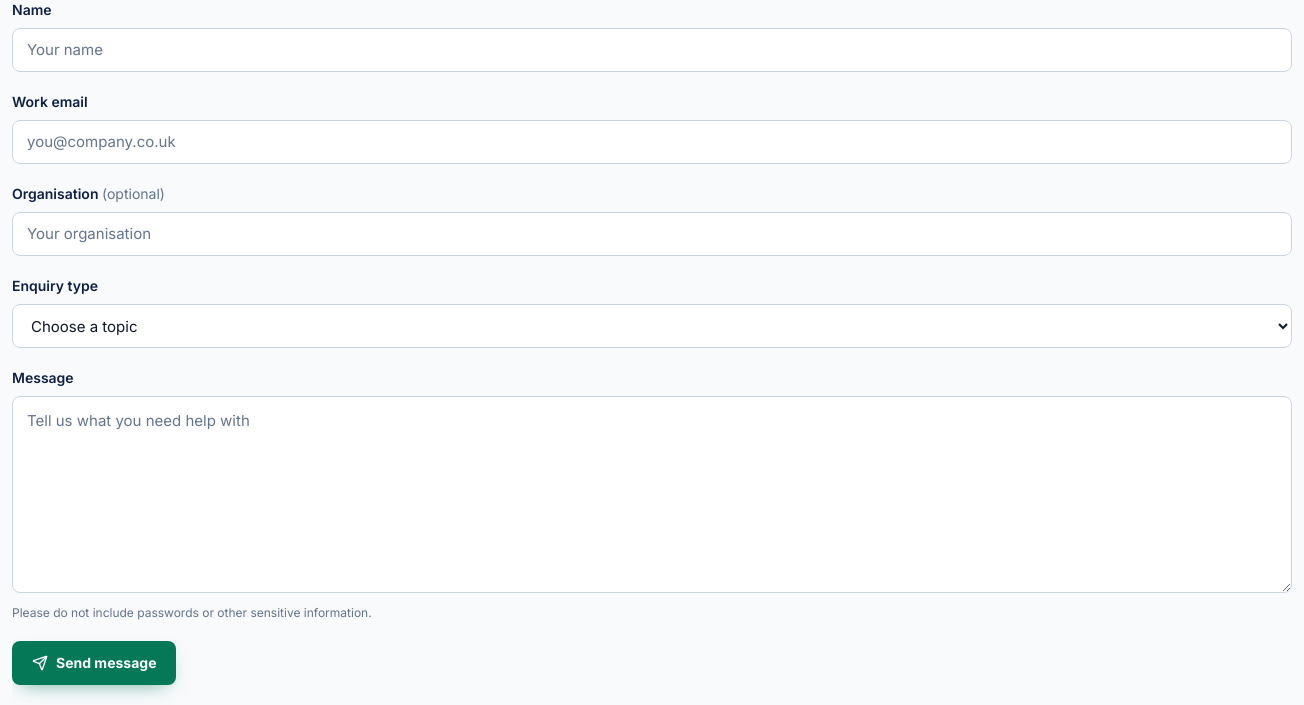
Test case: ContactForm › shows field errors and retains visitor input after validation fails
The width and height of the screenshot is (1304, 705).
In the field labelled "Name": coordinates (652, 50) 12,28 -> 1292,72, type "Aisha Rahman"
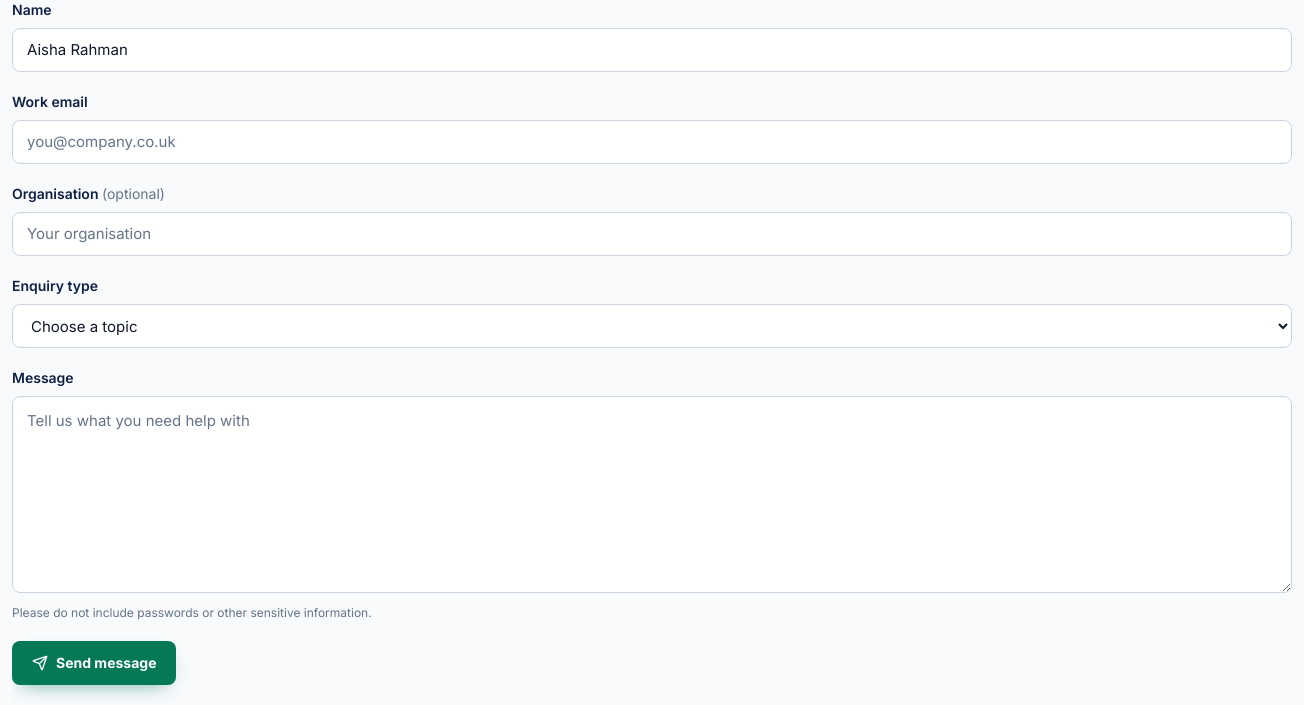
In the field labelled "Work email": coordinates (652, 142) 12,120 -> 1292,164, type "not-an-email"
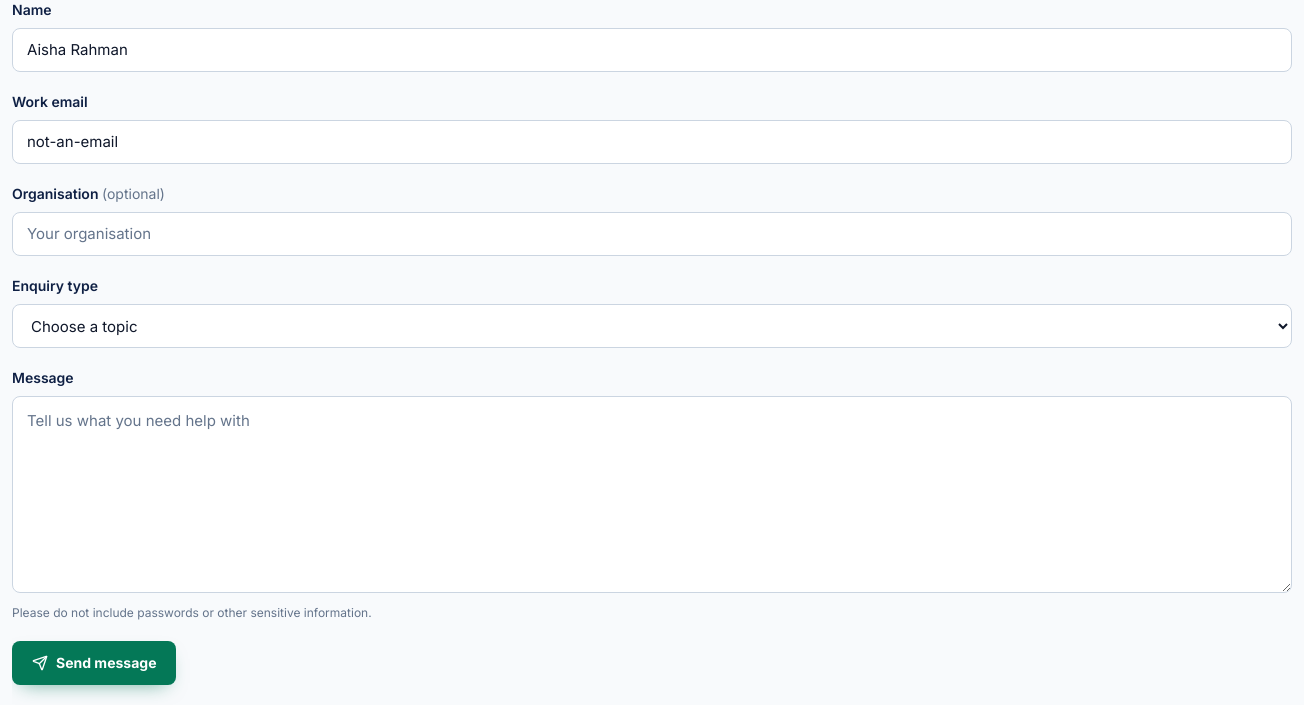
In the text box labelled "Message": coordinates (652, 494) 12,396 -> 1292,593, type "Please help us understand our latest readiness results."
(page scrolled)
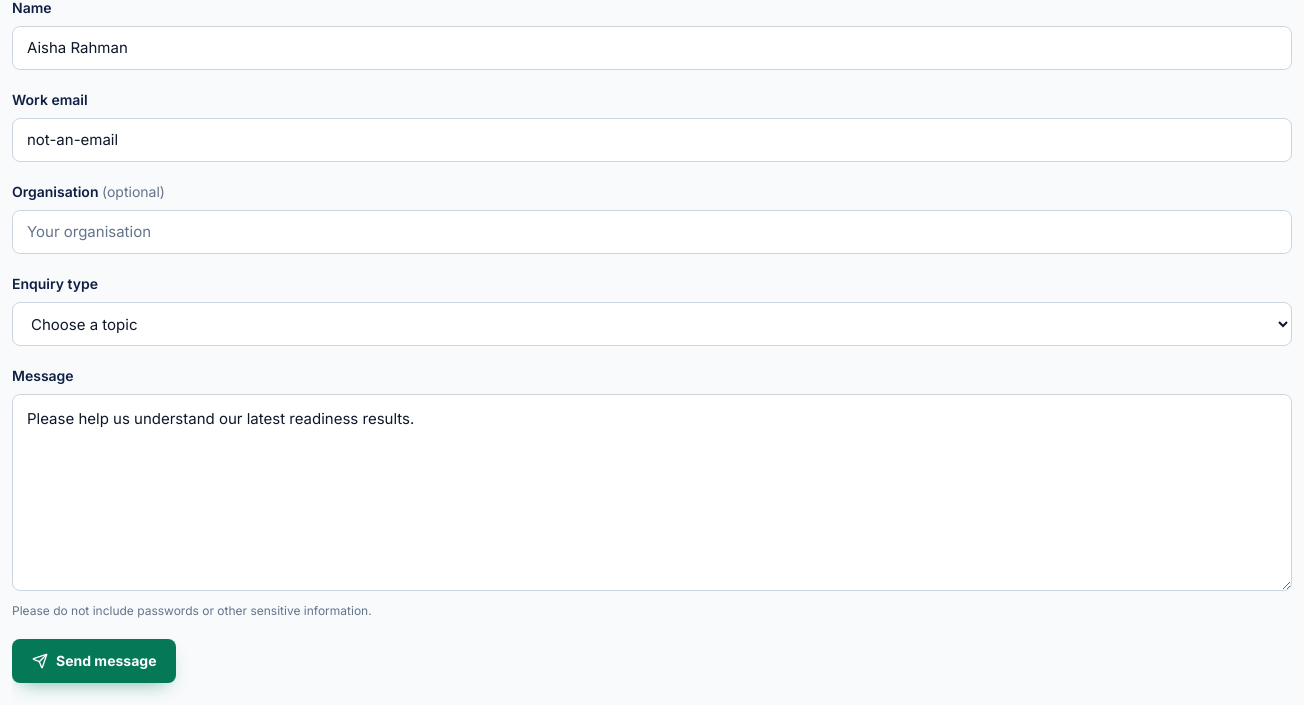
Submit the form named "Send message"
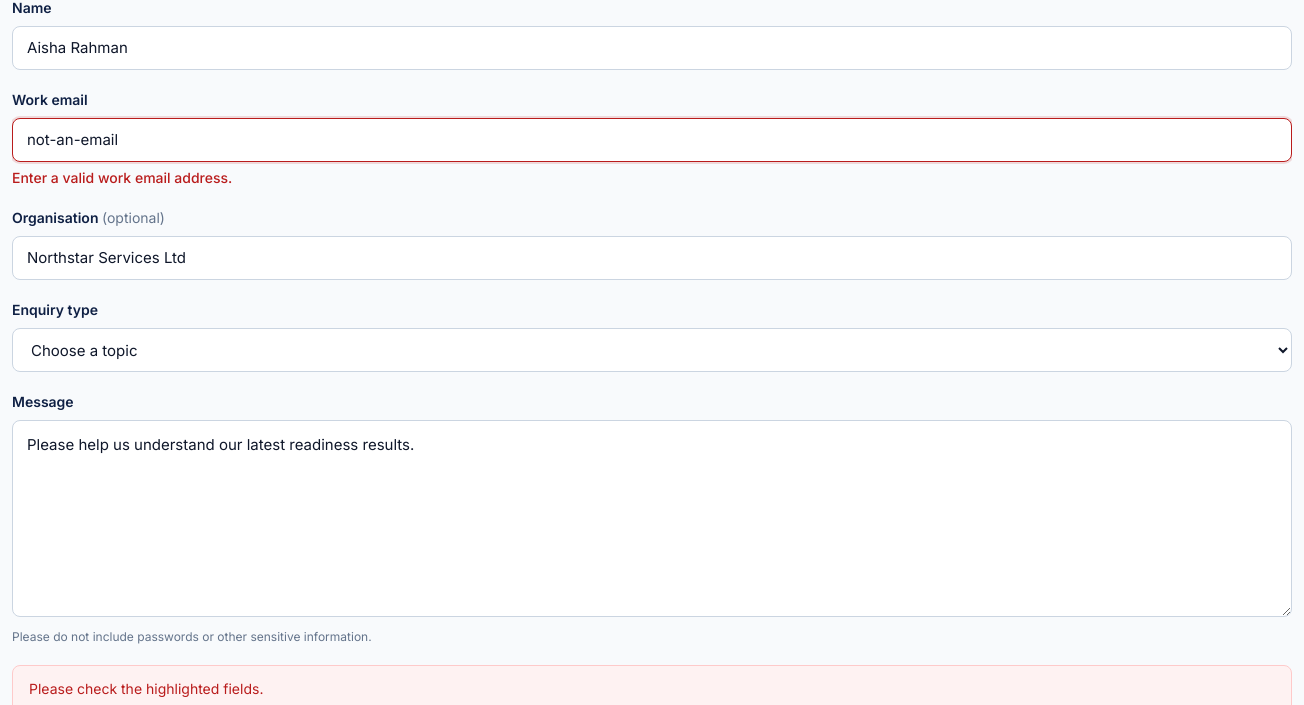
Expected: the text "Enter a valid work email address." is shown, 12,169 -> 232,186
